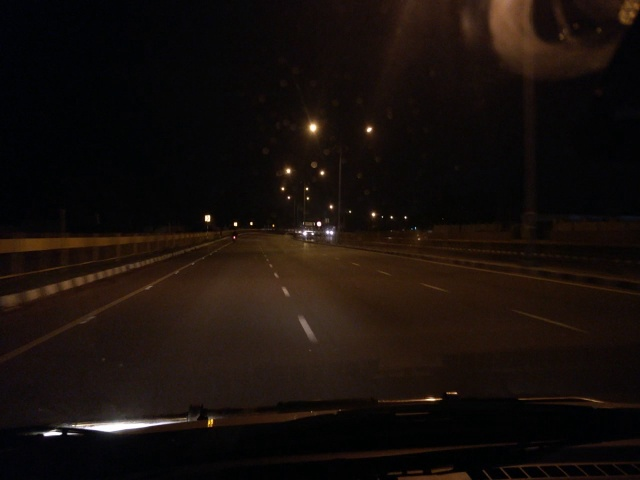car: (292, 225, 318, 242), (324, 224, 340, 243)
motorbike: (230, 228, 242, 243)
